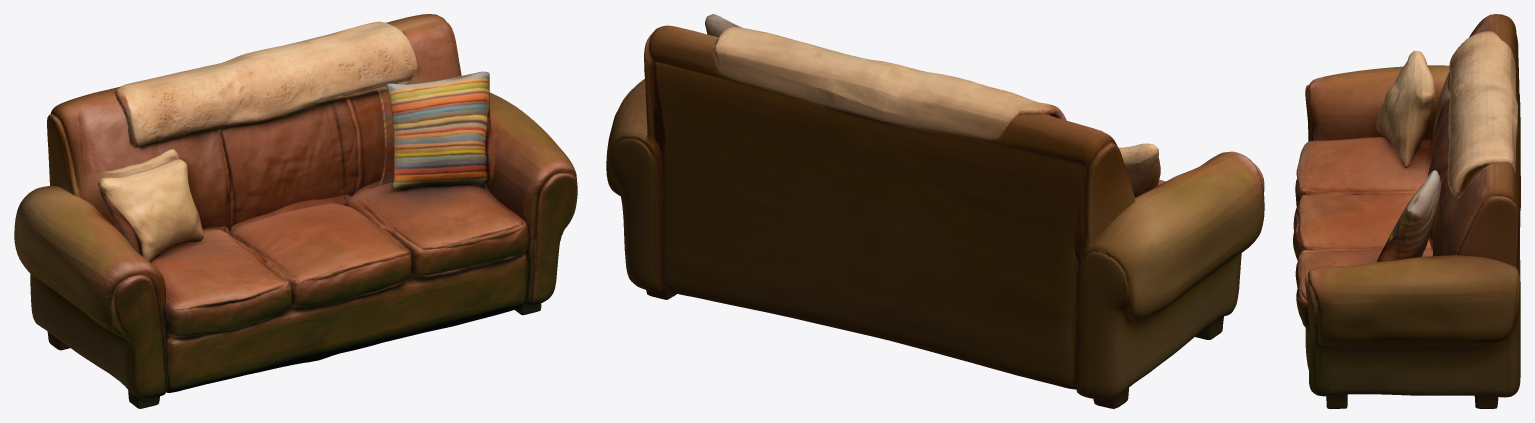
Rendered from couch.glb.
3 views of the same model, side by side, from view 1: azimuth 30°, elevation 25°; view 2: azimuth 150°, elevation 25°; view 3: azimuth 270°, elevation 25° (orthographic). The views are drawn at different scales.
Visible parts, largest first — view 1: geometry_0; view 2: geometry_0; view 3: geometry_0.
Part boxes in pixels (x1,y1,x2,y2): geometry_0: [14, 14, 577, 408]; geometry_0: [606, 14, 1264, 408]; geometry_0: [1293, 14, 1520, 408].
Size of the model in its own units: 0.9994 by 0.478 by 0.4363.
Materials: 1 (1 with a texture image).
